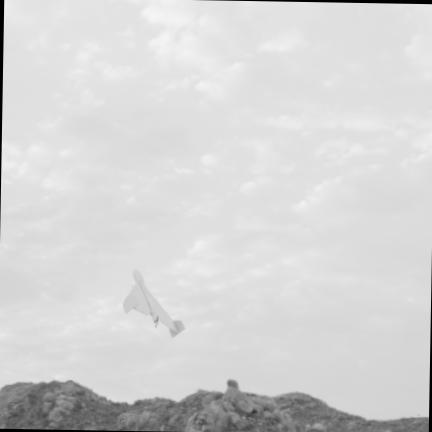Shahed: (123, 269, 184, 337)
